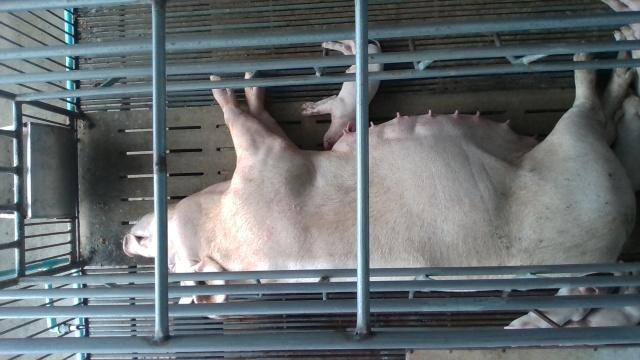piglet: (301, 38, 383, 149), (562, 258, 640, 326), (505, 285, 612, 328)
sow-sleep-lactate: (122, 53, 633, 321)
